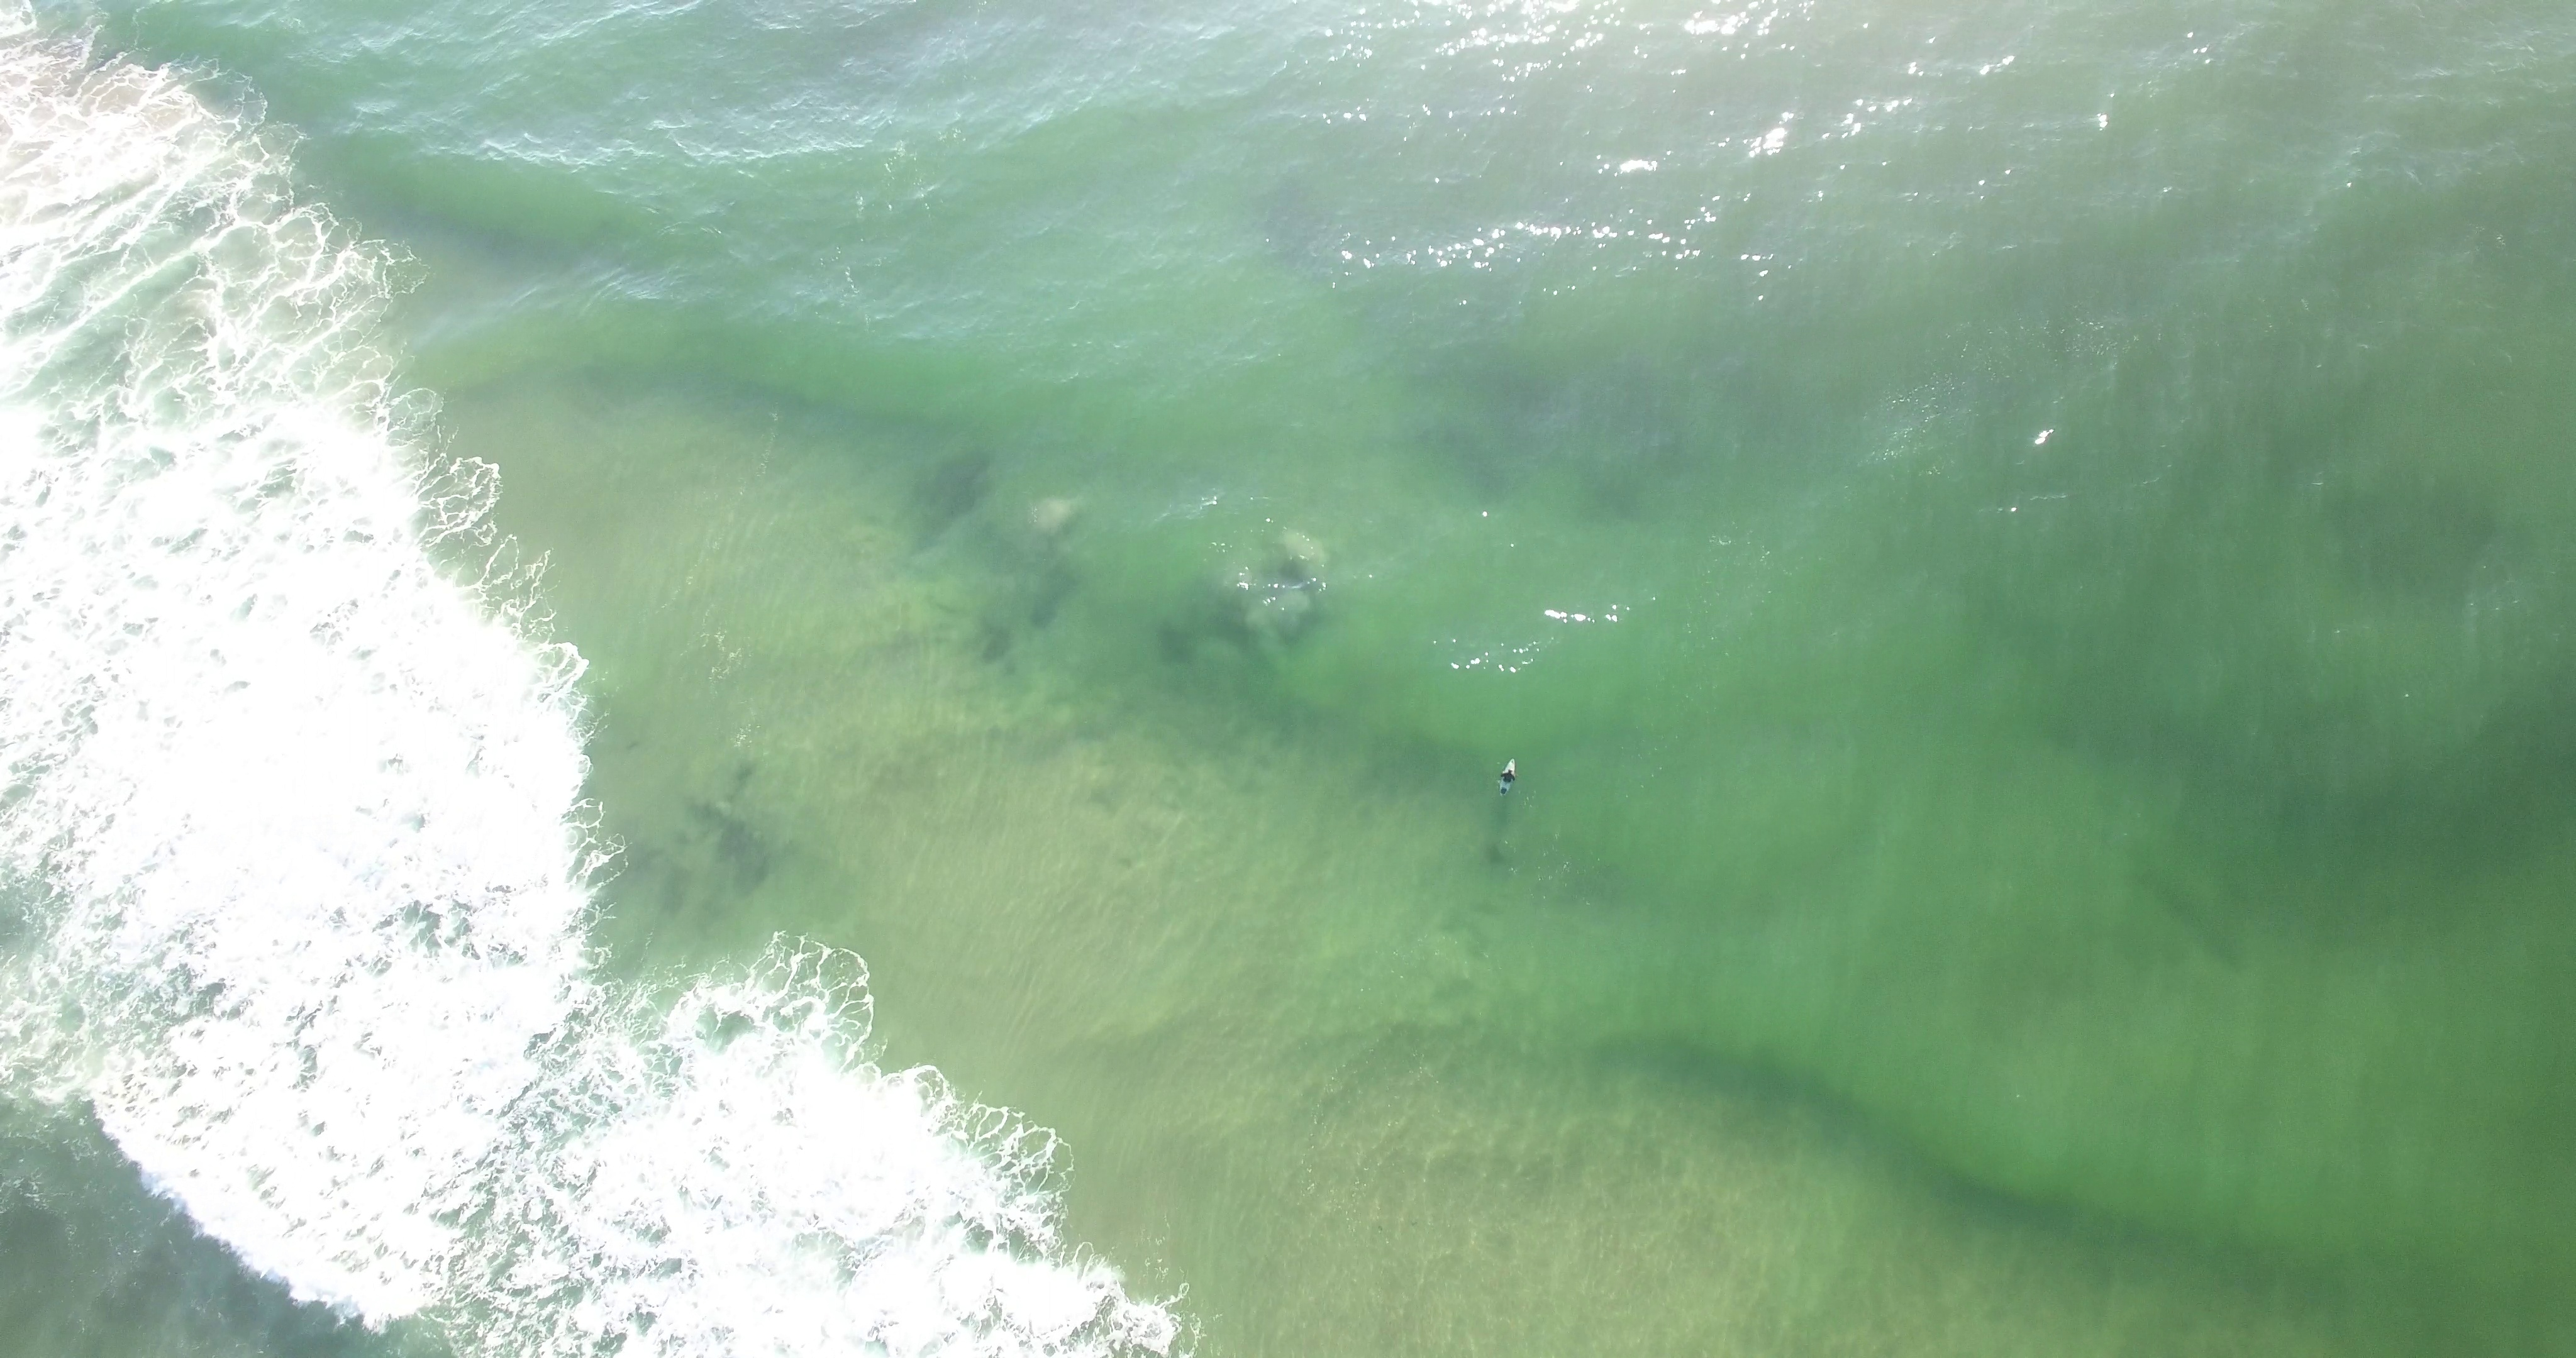surfer: (1494, 757, 1518, 796)
